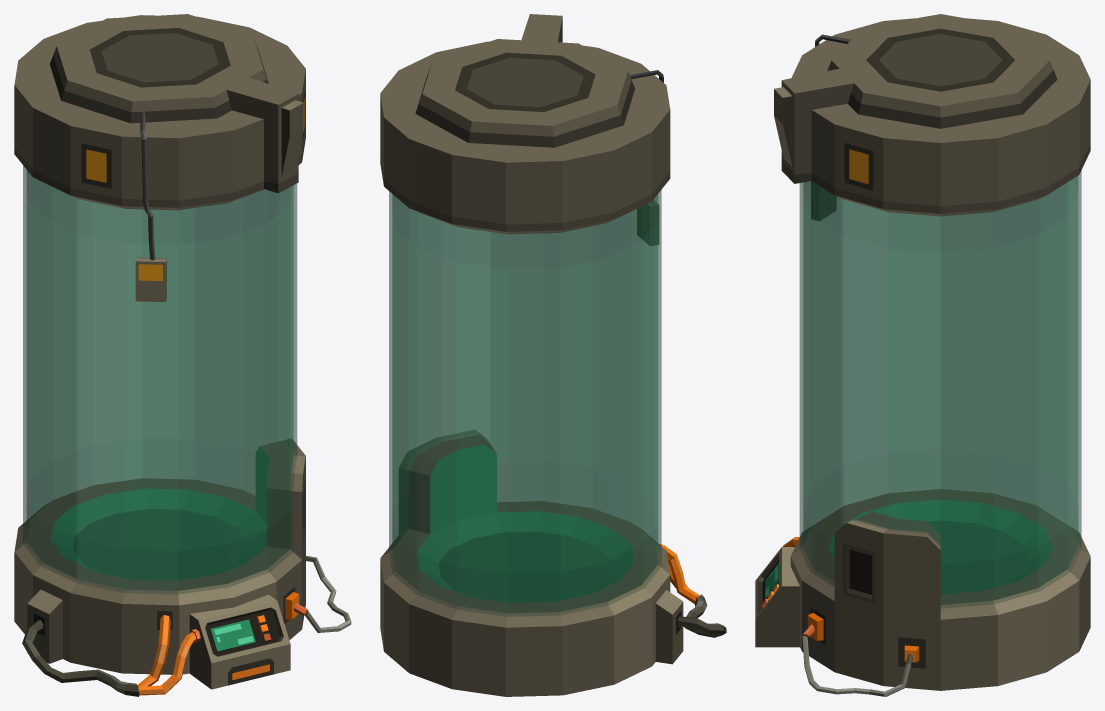
Rendered from CR_Lab2_Capsule_01.fbx.
3 renders of one model, left to right at view 1: azimuth 30°, elevation 25°; view 2: azimuth 150°, elevation 25°; view 3: azimuth 270°, elevation 25°, orthographic. The views are drawn at different scales.
Parts seen in each view (by area): view 1: CR_Lab2_Capsule_01, CR_Lab2_Capsule_01_Shadow; view 2: CR_Lab2_Capsule_01, CR_Lab2_Capsule_01_Shadow; view 3: CR_Lab2_Capsule_01, CR_Lab2_Capsule_01_Shadow.
Boxes of the visible parts, x1,y1,x2,y2 form: CR_Lab2_Capsule_01: (14, 14, 351, 696); CR_Lab2_Capsule_01_Shadow: (23, 165, 297, 594); CR_Lab2_Capsule_01: (380, 14, 726, 696); CR_Lab2_Capsule_01_Shadow: (389, 190, 661, 616); CR_Lab2_Capsule_01: (755, 14, 1090, 696); CR_Lab2_Capsule_01_Shadow: (799, 171, 1081, 608).
Bounding box in the file's own units: 1.35 × 2.31 × 1.23.
